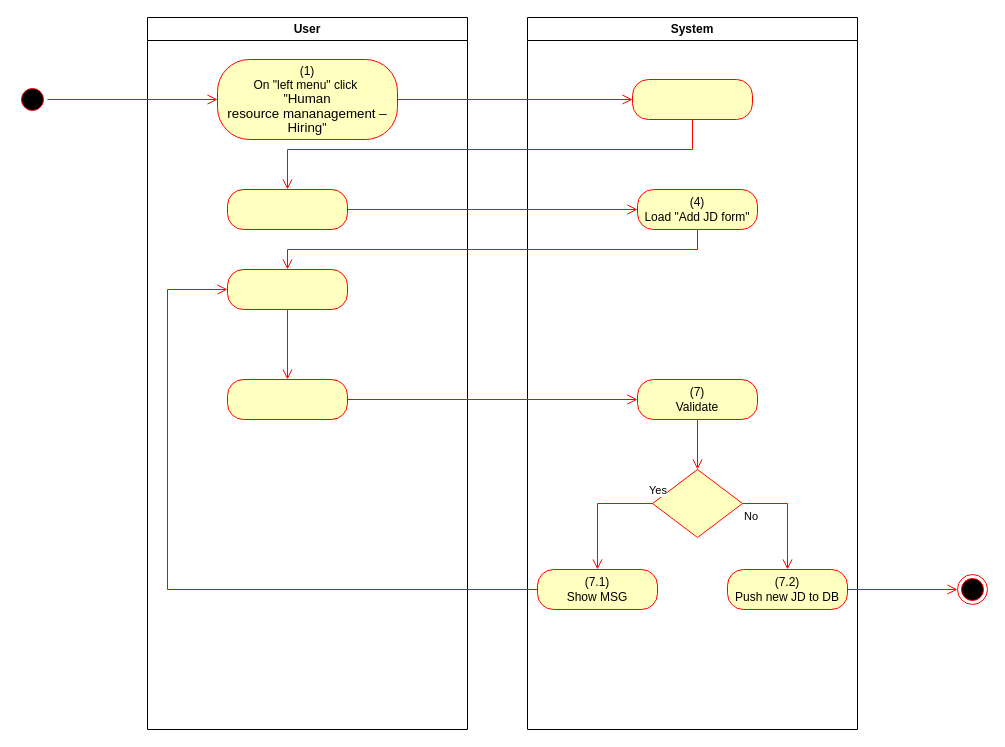
This 1005x747 diagram has some shape labels left out. Each missing label, with the centre of its shape:
(2) Load "Hiring" screen: pixel 692 99
(3) Click button "Tạo JD": pixel 287 209
(5) Giving several input: pixel 287 289
(6) Click "Xác nhận": pixel 287 399
